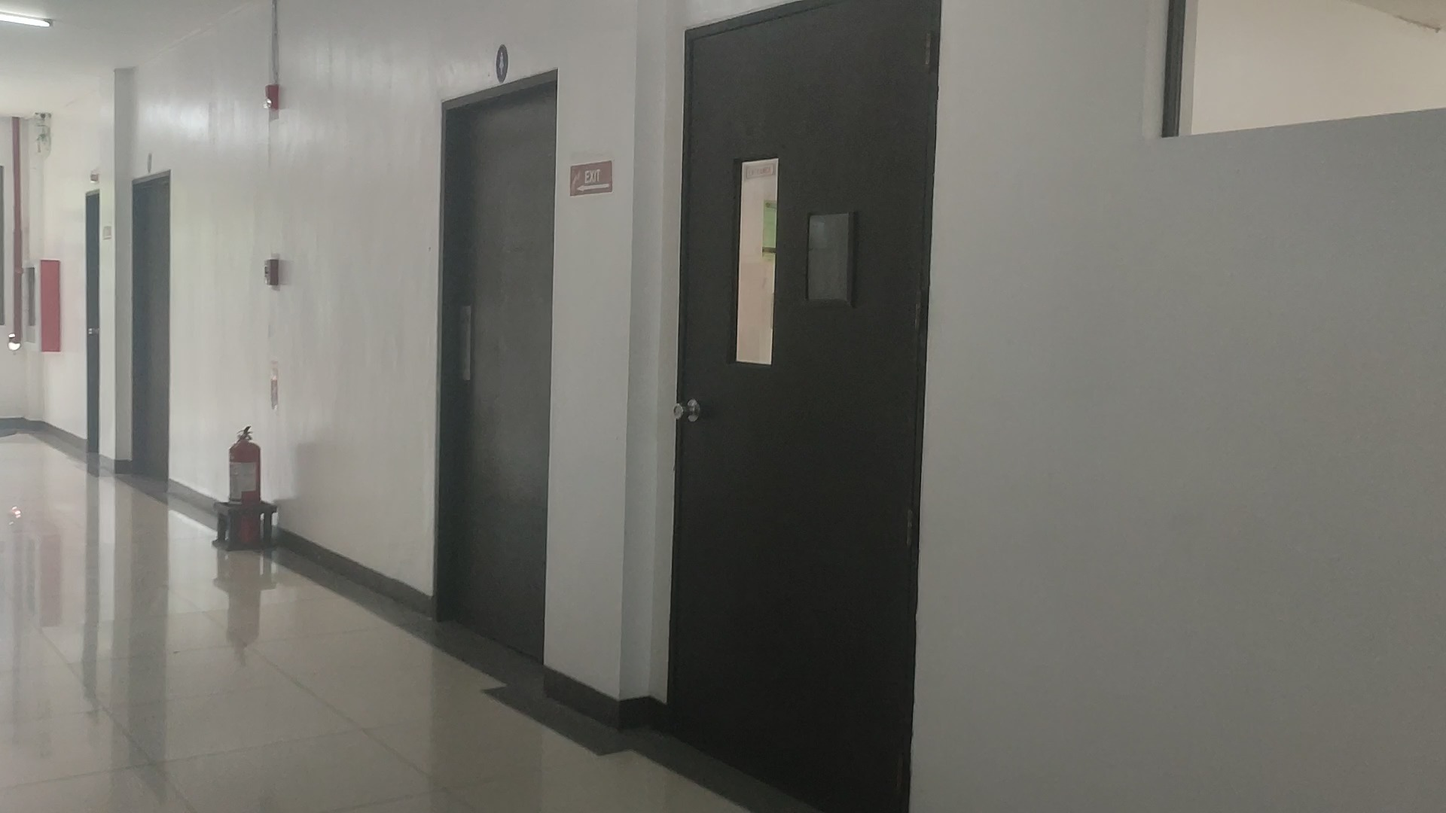door: (667, 0, 941, 813), (435, 71, 558, 663)
